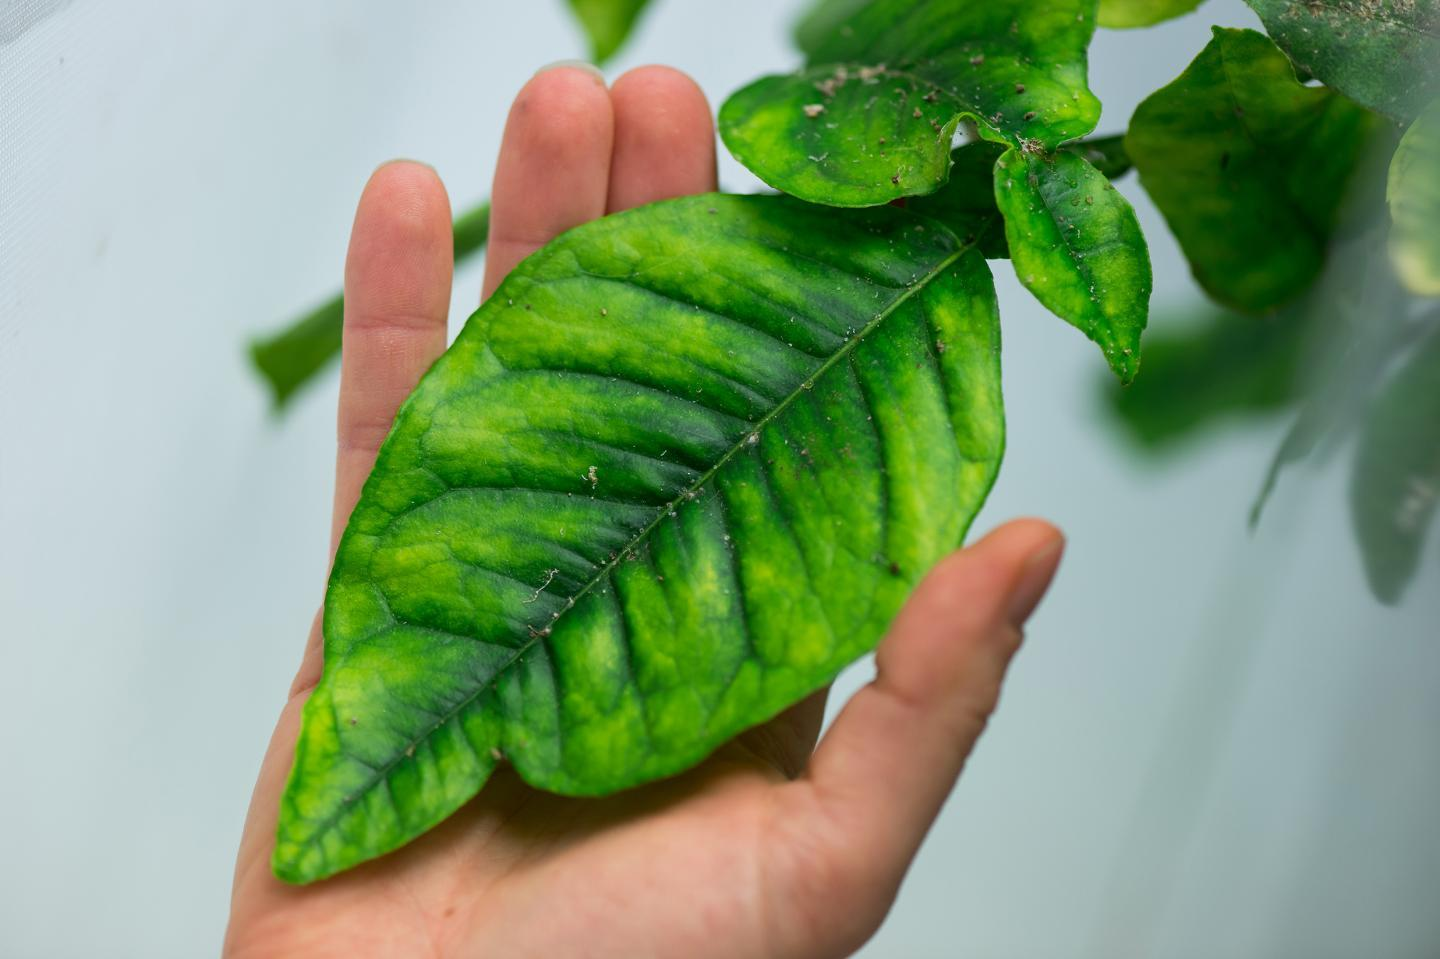Citrus Greening: (268, 187, 1012, 894), (711, 56, 998, 210), (990, 134, 1158, 388)
